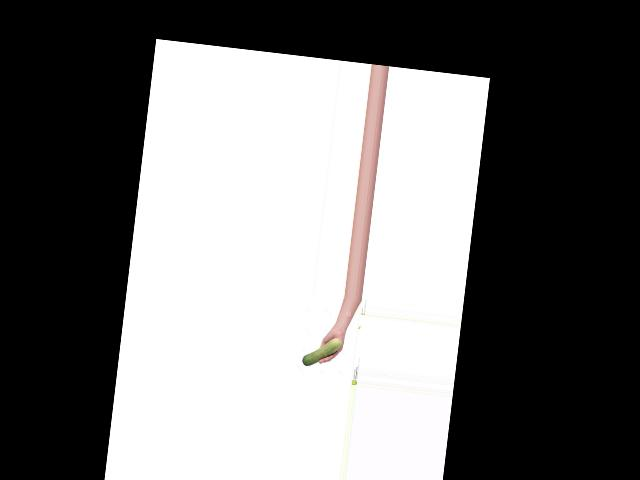cucumber: (302, 334, 342, 369)
